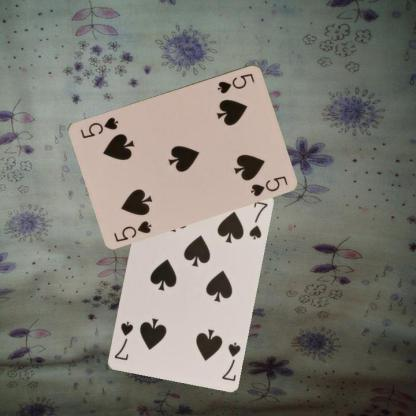5s: (111, 218, 153, 243), (215, 70, 256, 95)
7s: (219, 339, 241, 382)
